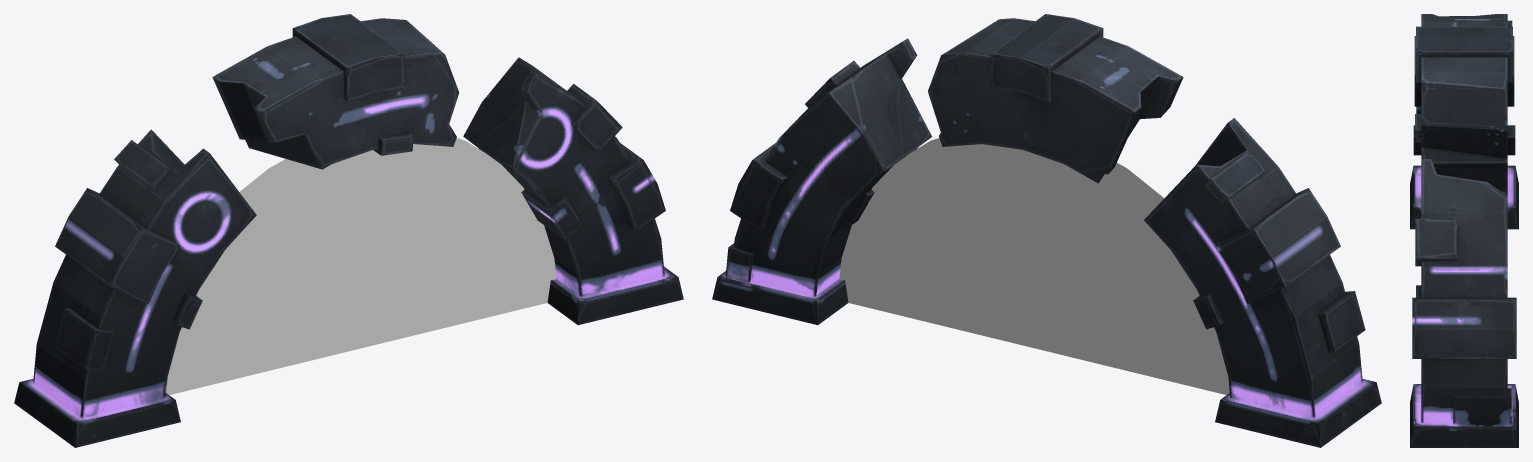
File: portal_2.fbx
3 views of the same model, side by side, from view 1: azimuth 30°, elevation 25°; view 2: azimuth 150°, elevation 25°; view 3: azimuth 270°, elevation 25° (orthographic). The views are drawn at different scales.
Parts seen in each view (by area): view 1: Portal-2-low, door; view 2: Portal-2-low, door; view 3: Portal-2-low.
Boxes of the visible parts, x1,y1,x2,y2 form: Portal-2-low: [14, 14, 683, 447]; door: [166, 138, 556, 394]; Portal-2-low: [712, 14, 1381, 447]; door: [839, 138, 1229, 394]; Portal-2-low: [1410, 14, 1518, 447].
Size of the model in its own units: 726 by 357 by 126.
2 materials, 1 textured.
